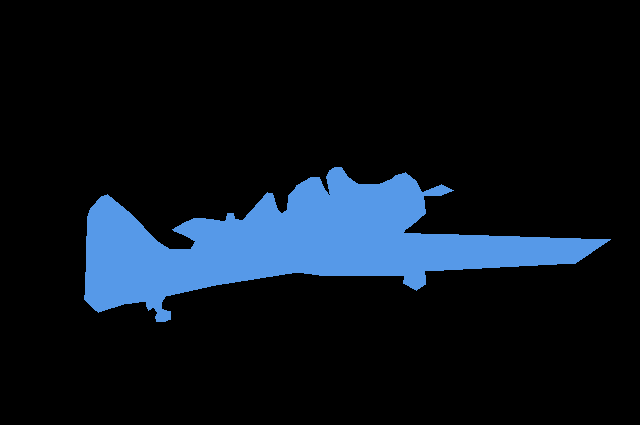Airplane: (84, 167, 611, 322)
